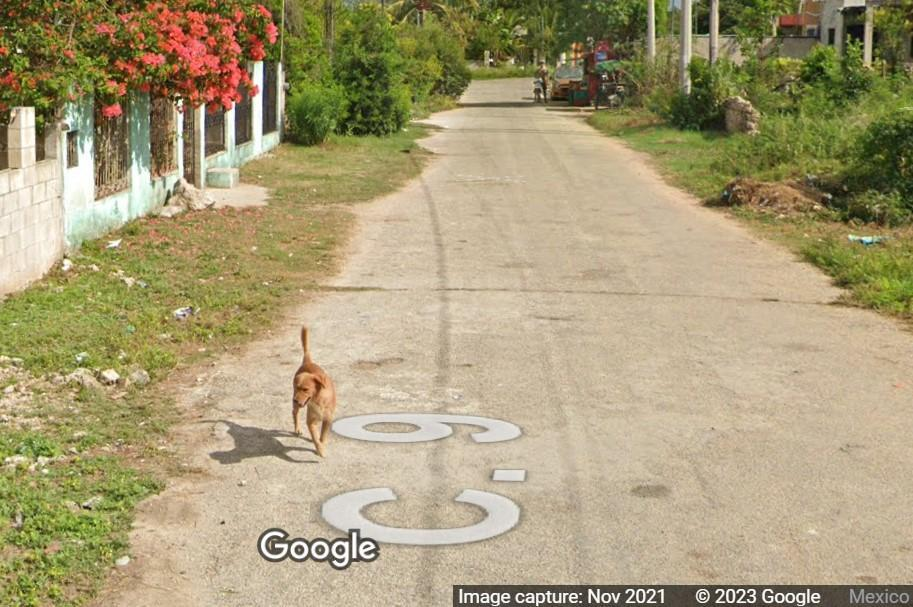normal_dogs: (286, 321, 344, 457)
